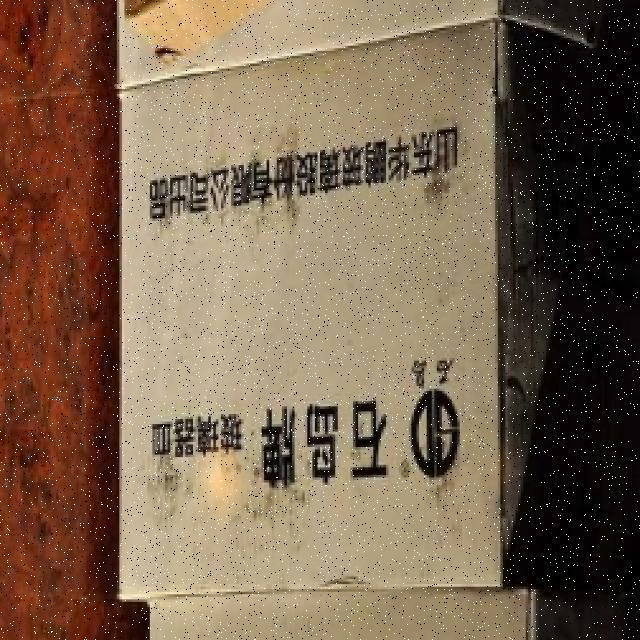box: (117, 73, 640, 594), (106, 0, 610, 99), (145, 589, 638, 640)
